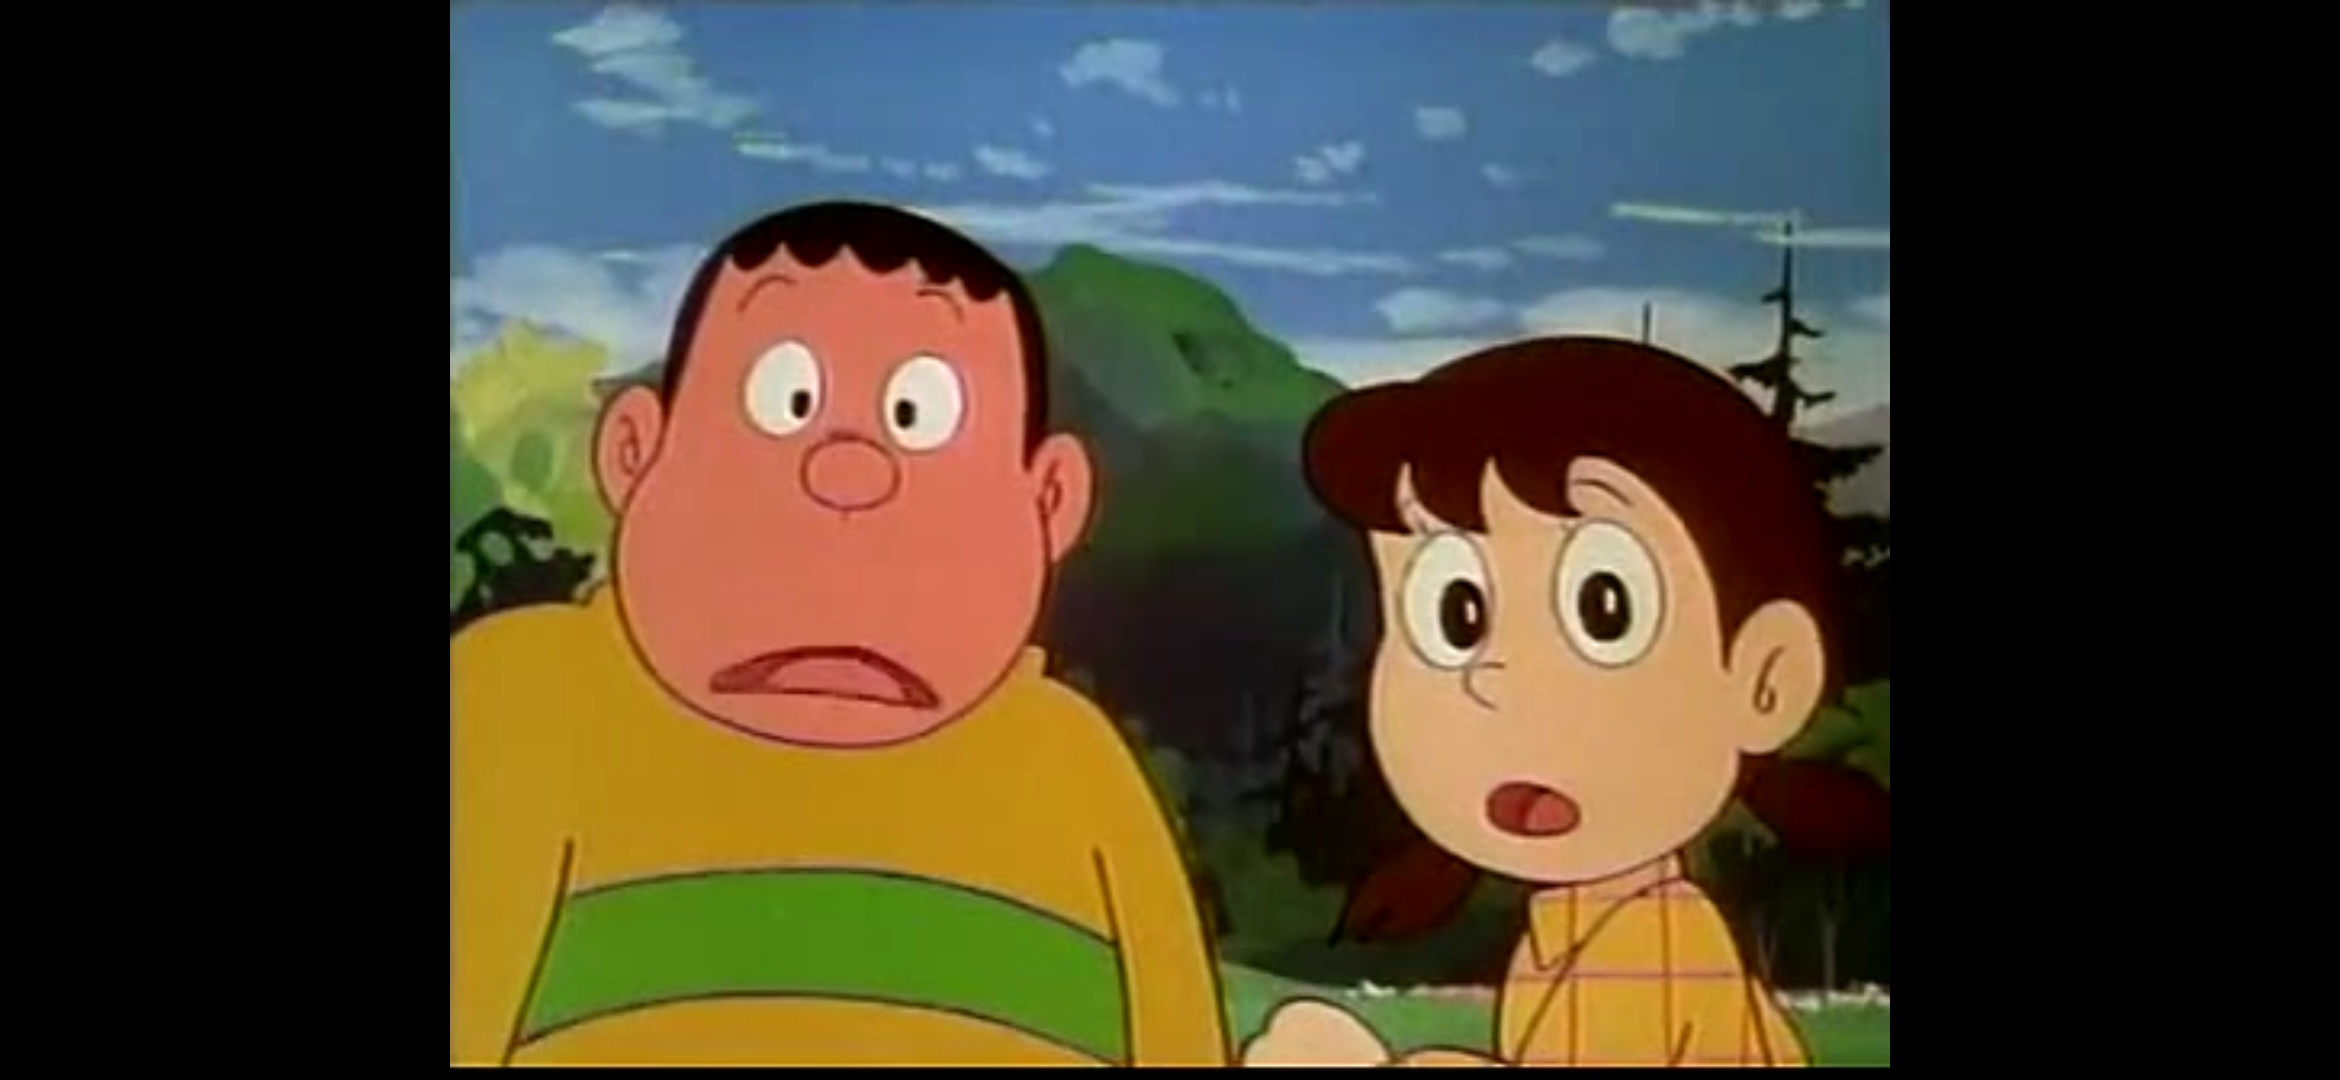Shizuka: (1301, 337, 1827, 882)
Takeshi: (592, 195, 1091, 746)
